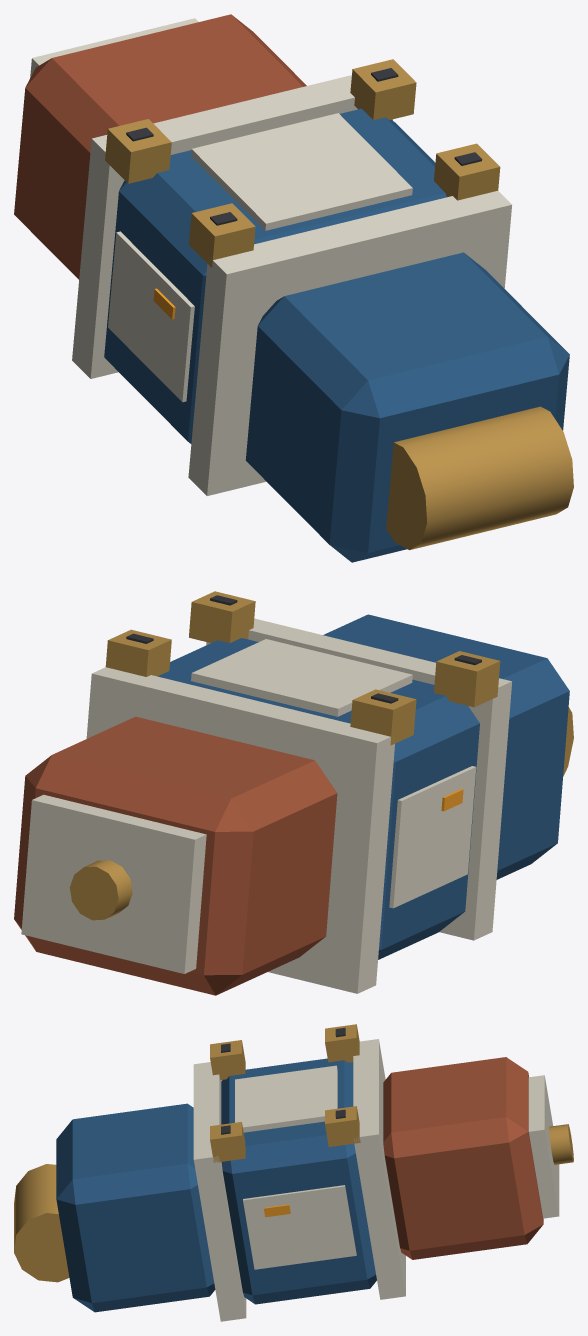
Rendered from rm2_abdomen.obj.
3 renders of one model, top to bottom at view 1: azimuth 30°, elevation 25°; view 2: azimuth 150°, elevation 25°; view 3: azimuth 270°, elevation 25°, orthographic. The views are drawn at different scales.
Parts seen in each view (by area): view 1: rm2_abdomen; view 2: rm2_abdomen; view 3: rm2_abdomen.
Part boxes in pixels (x1,y1,x2,y2): rm2_abdomen: (14,14,573,562); rm2_abdomen: (14,591,573,995); rm2_abdomen: (14,1024,573,1321).
Size of the model in its own units: 0.356 by 0.3597 by 0.8674.
